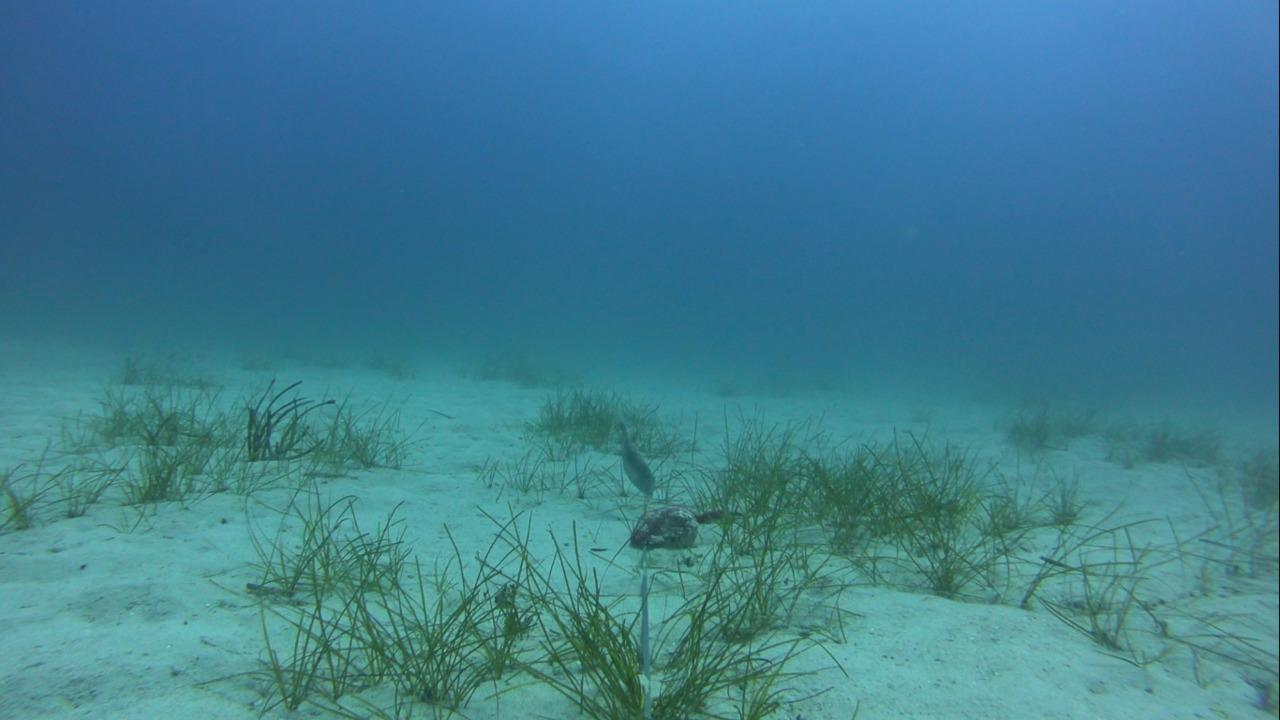raor: (607, 412, 656, 501)
